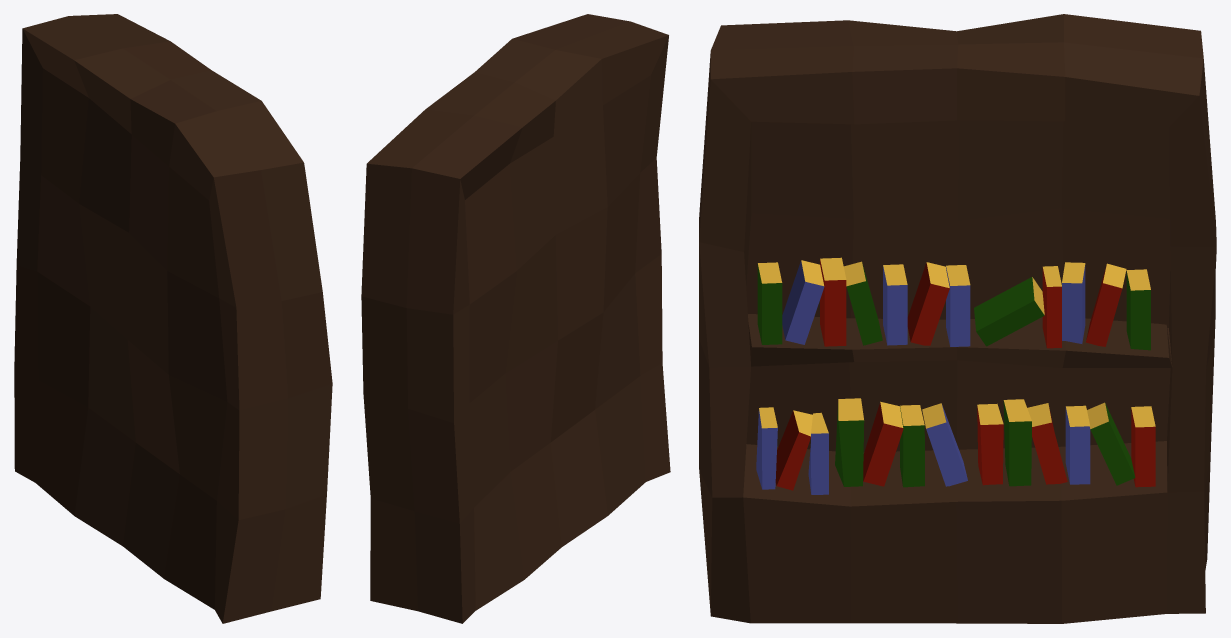
The model's file is Bookshelf.fbx.
3 renders of one model, left to right at view 1: azimuth 30°, elevation 25°; view 2: azimuth 150°, elevation 25°; view 3: azimuth 270°, elevation 25°, orthographic. The views are drawn at different scales.
Visible parts, largest first — view 1: Bookshelf; view 2: Bookshelf; view 3: Bookshelf.
Part boxes in pixels (x1,y1,x2,y2): Bookshelf: [14, 14, 332, 623]; Bookshelf: [361, 14, 670, 623]; Bookshelf: [699, 14, 1216, 623].
Bounding box in the file's own units: 57.09 × 202 × 174.
